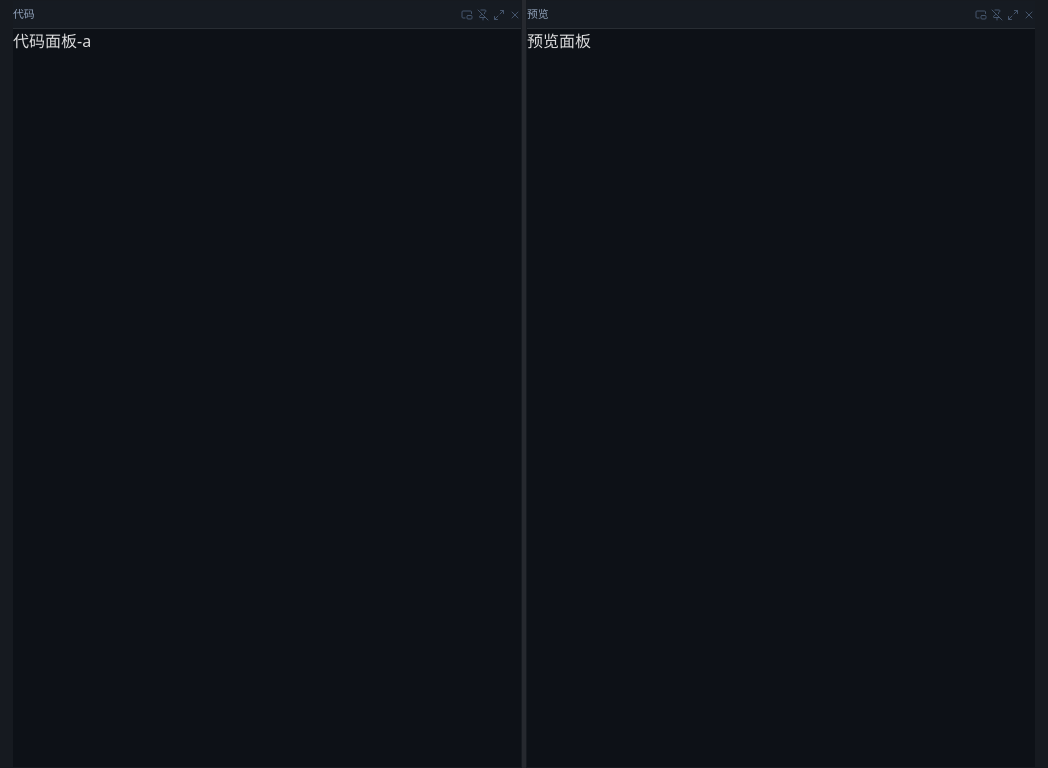
PanelShell（渲染 + 上下文编辑） › Pin 固定后关闭按钮禁用，取消固定恢复
Expected: the 1st button titled "关闭" is enabled, x1=509 y1=8 x2=521 y2=20
Click the 1st button titled "固定面板" at (483, 14), box x1=477 y1=8 x2=489 y2=20
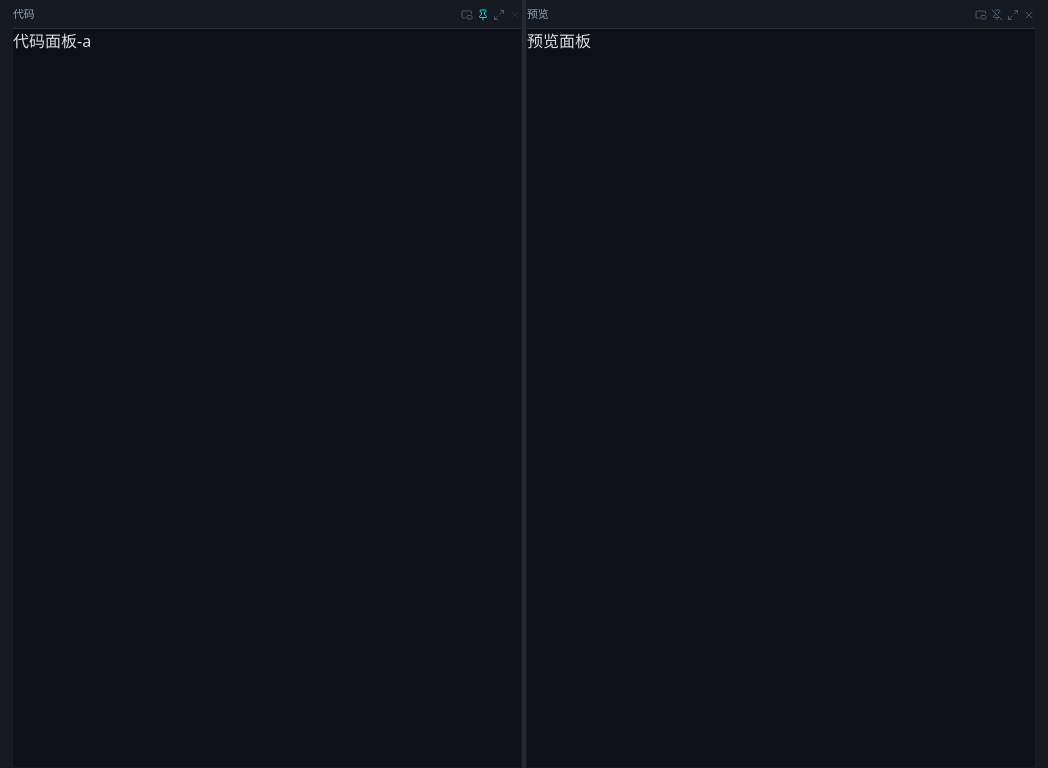
Click the button titled "取消固定" at (483, 14), box x1=477 y1=8 x2=489 y2=20
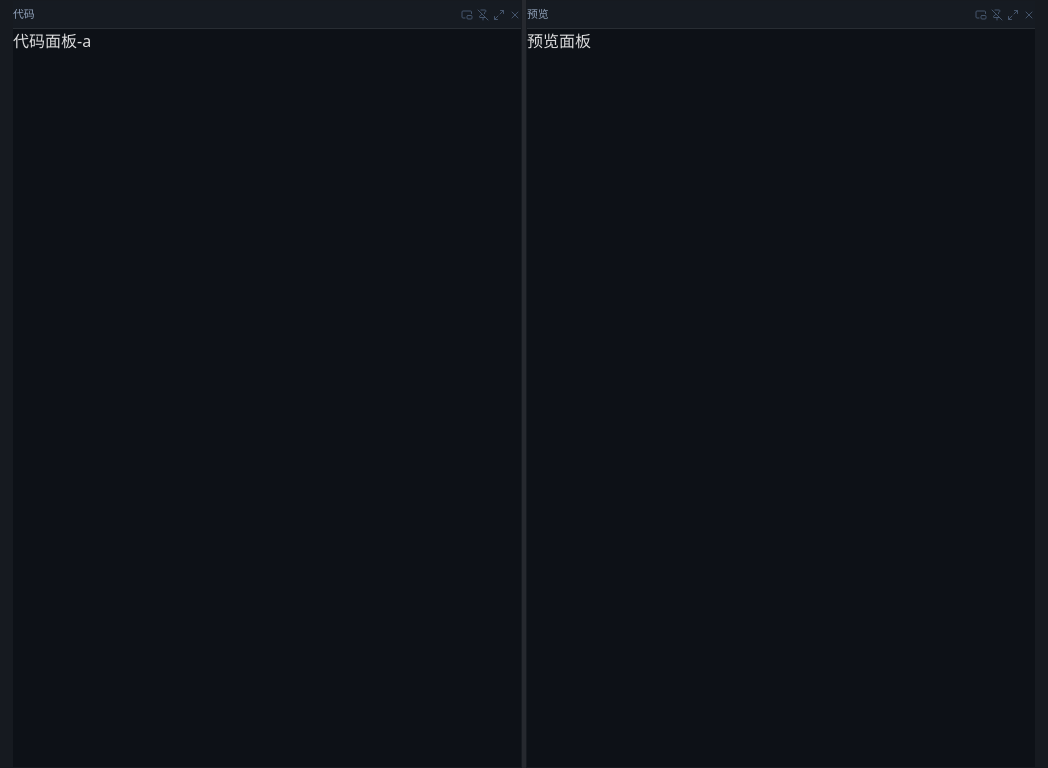
Now the 1st button titled "关闭" is enabled, box x1=509 y1=8 x2=521 y2=20
